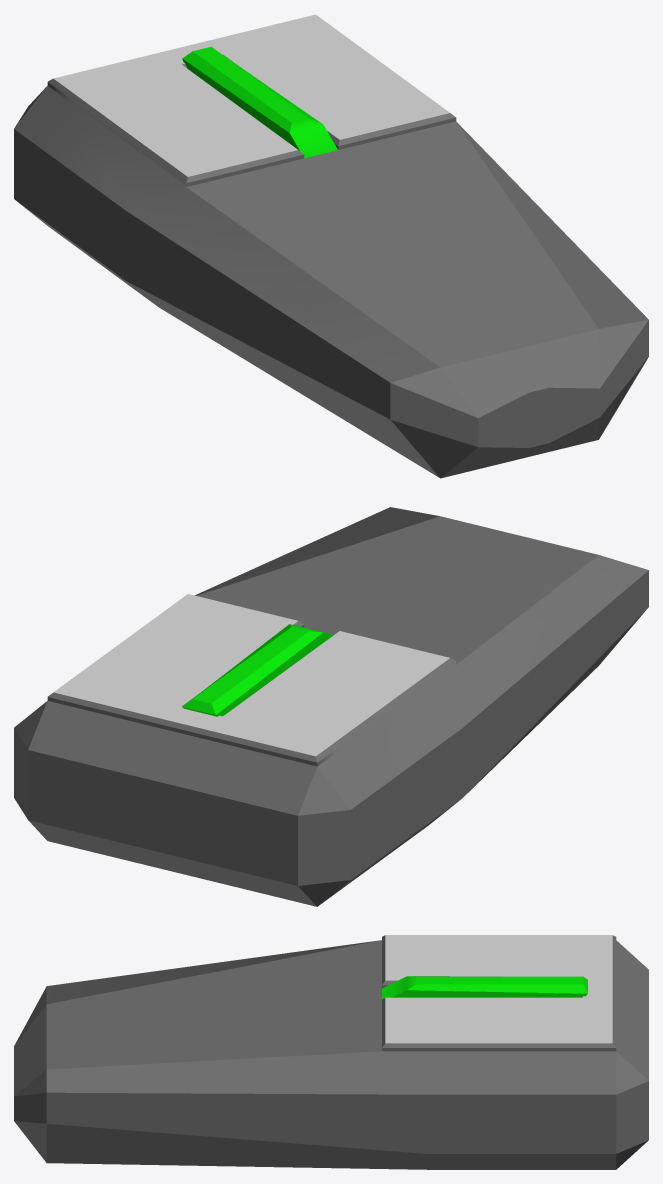
Rendered from Mouse.fbx.
The picture shows the model from 3 angles, top to bottom: view 1: azimuth 30°, elevation 25°; view 2: azimuth 150°, elevation 25°; view 3: azimuth 270°, elevation 25°; orthographic projection. The views are drawn at different scales.
Visible parts, largest first — view 1: Mouse; view 2: Mouse; view 3: Mouse.
Part boxes in pixels (x1,y1,x2,y2): Mouse: [14, 14, 648, 478]; Mouse: [14, 507, 648, 906]; Mouse: [14, 935, 648, 1169].
Bounding box in the file's own units: 0.0616 × 0.0311 × 0.1192.
